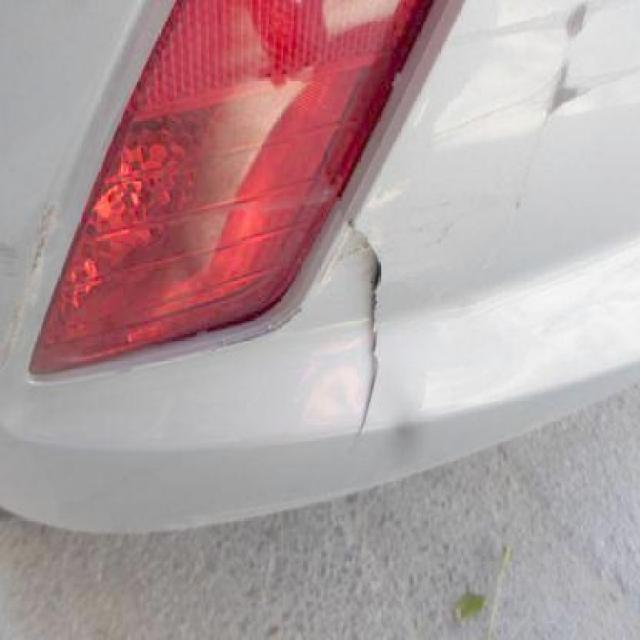car damage: (492, 0, 640, 119), (359, 253, 384, 430)
